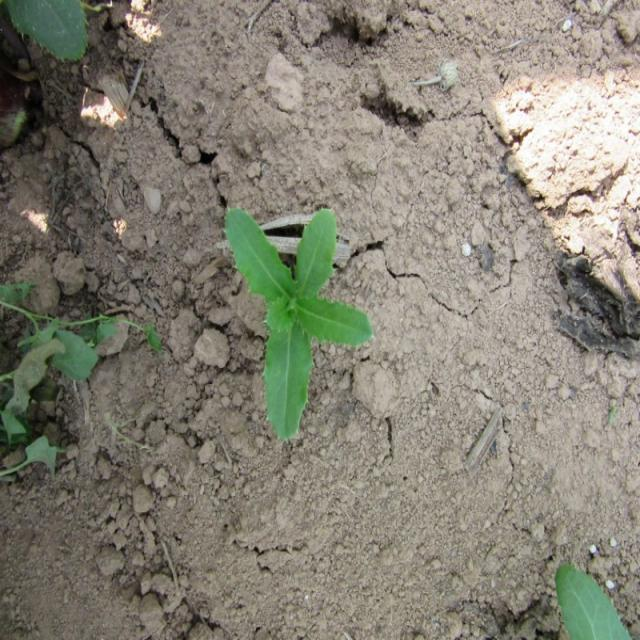cs: (223, 196, 374, 453)
